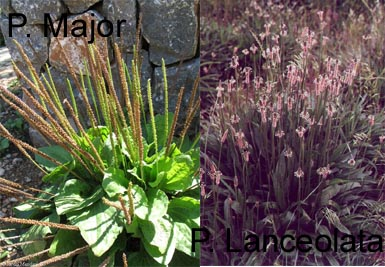buckhorn plantain: (2, 27, 196, 256), (214, 10, 368, 250)
